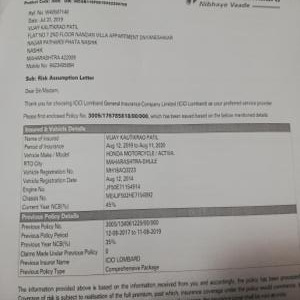table: (22, 122, 291, 209), (18, 204, 298, 277)
text: (25, 75, 276, 122), (27, 6, 177, 69)
